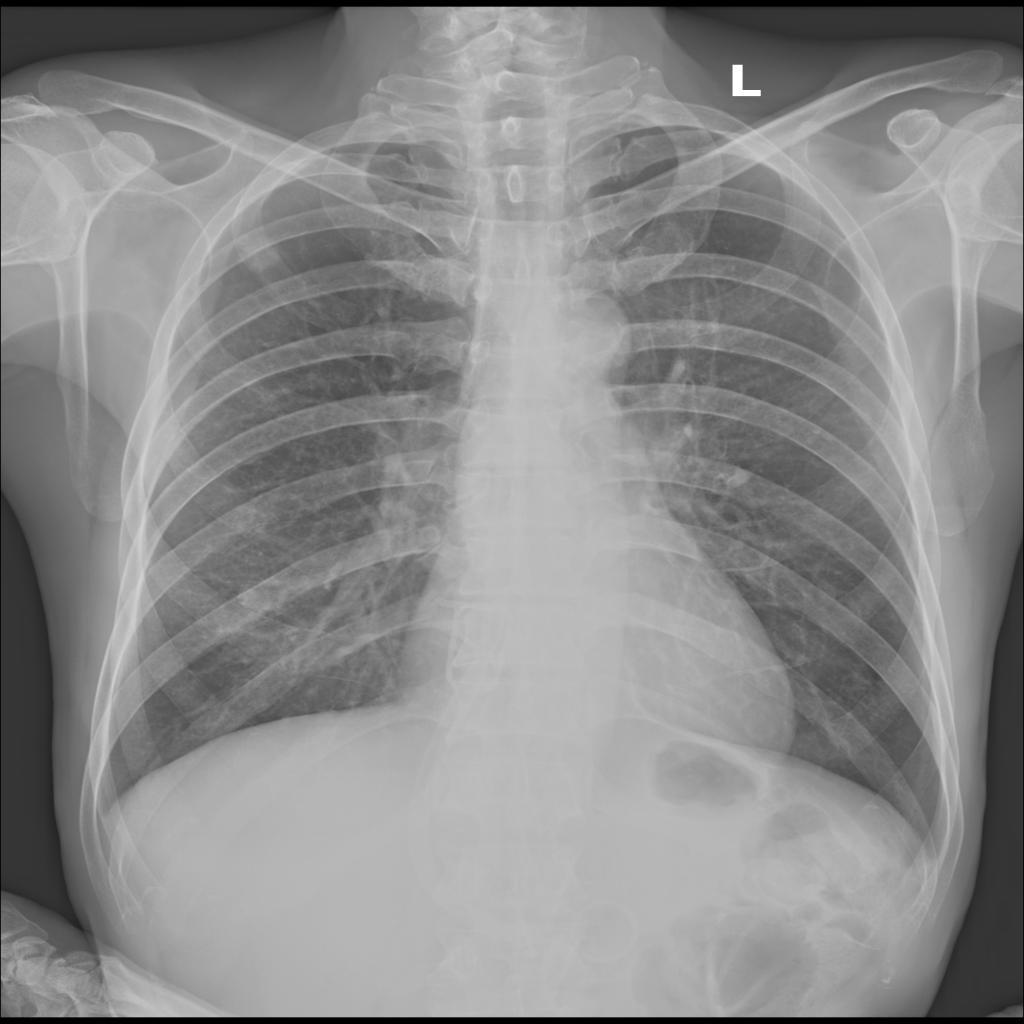Nodule: (238, 229, 279, 273)
